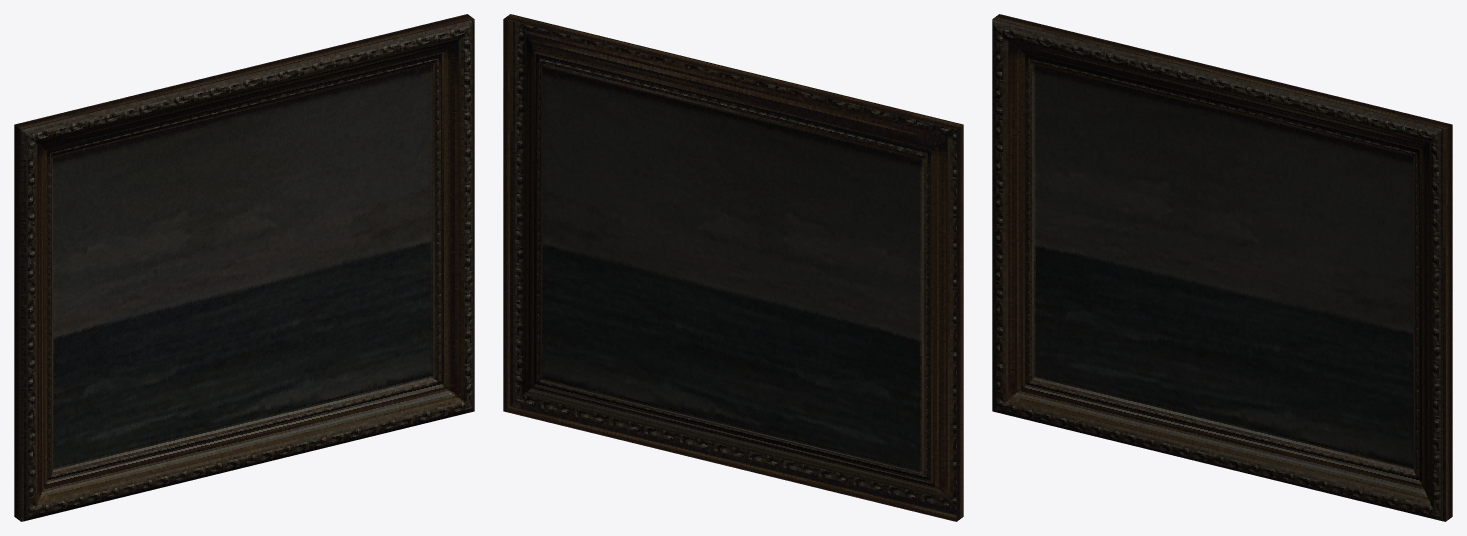
File: painting_4.glb
3 views of the same model, side by side, from view 1: azimuth 30°, elevation 25°; view 2: azimuth 150°, elevation 25°; view 3: azimuth 330°, elevation 25° (orthographic).
Visible parts, largest first — view 1: painting_4; view 2: painting_4; view 3: painting_4.
Boxes of the visible parts, x1,y1,x2,y2 form: painting_4: (14, 14, 474, 521); painting_4: (503, 14, 963, 521); painting_4: (992, 14, 1452, 521).
Bounding box in the file's own units: 1.09 × 0.9 × 0.0383.
1 material, 1 textured.
